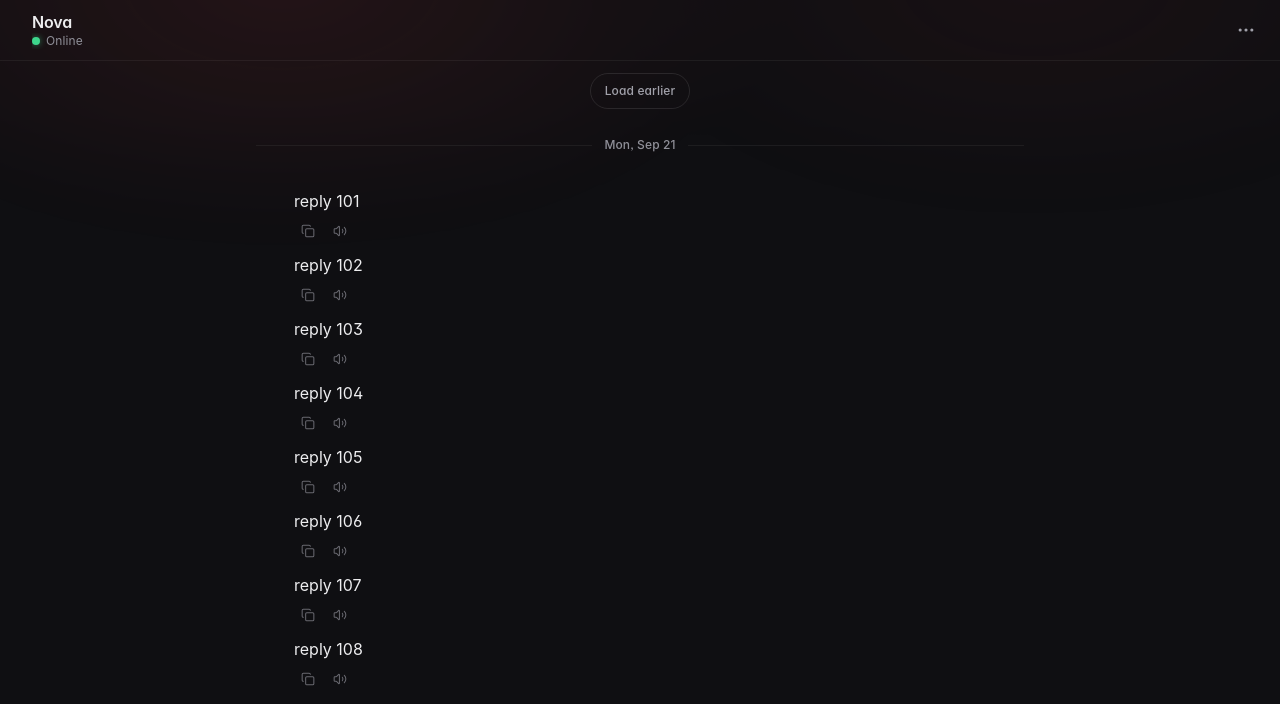
Scenario: a page Load earlier asked for before a reset never goes in front of the rewritten conversation
Click the button "Load earlier": {"x": 640, "y": 91} top-left (590, 73), bottom-right (690, 109)
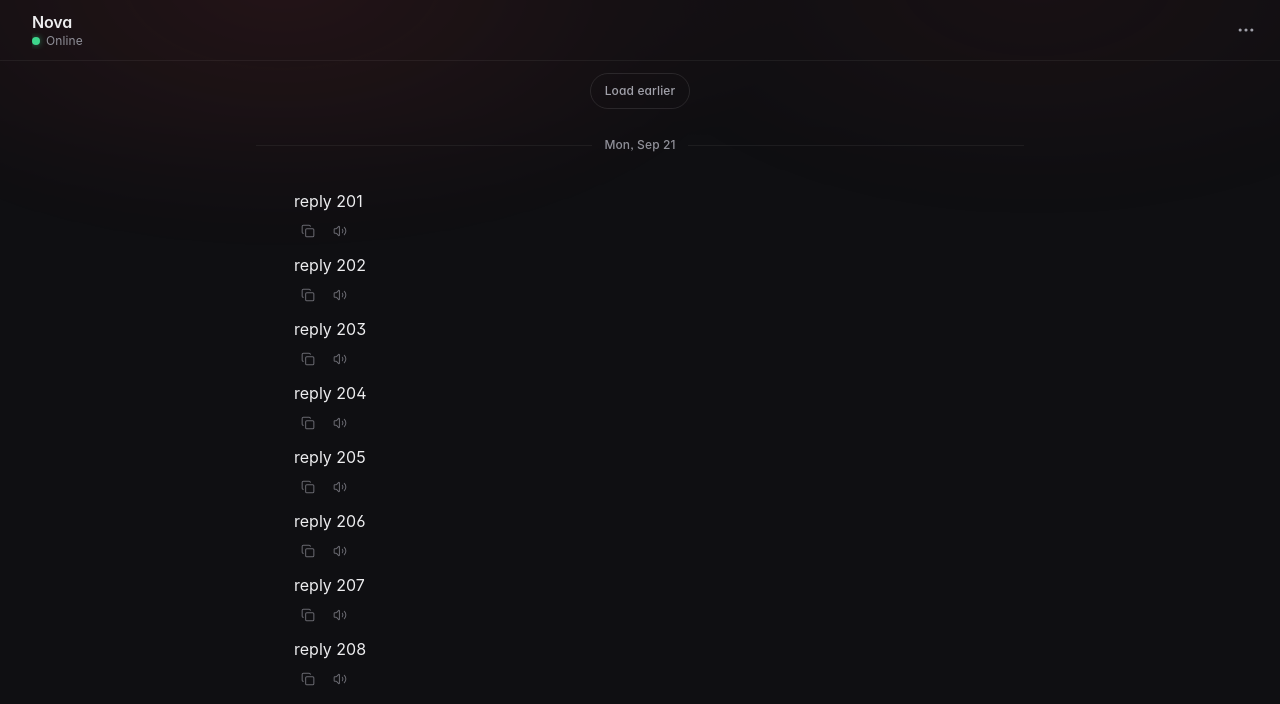
Check: the text "reply 201" is shown, box top-left (294, 191), bottom-right (363, 211)
Check: the text "reply 101" is gone
